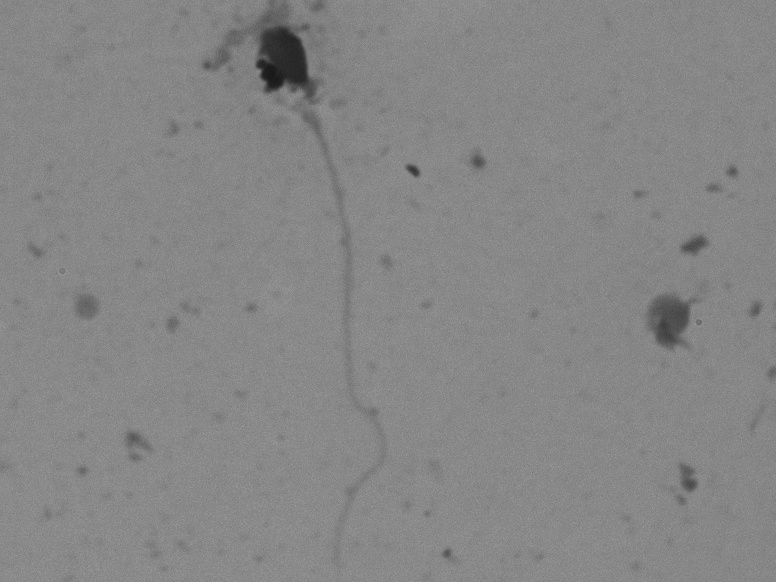Abnormal: (251, 22, 408, 573)
